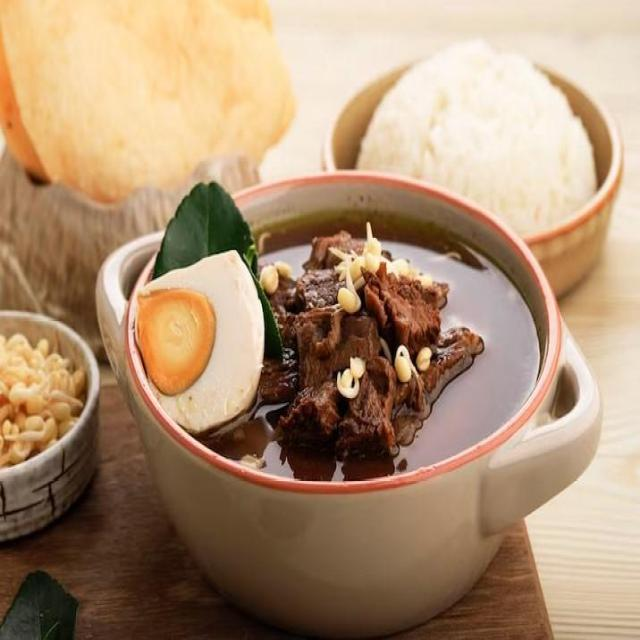Rawon: (159, 187, 538, 492)
